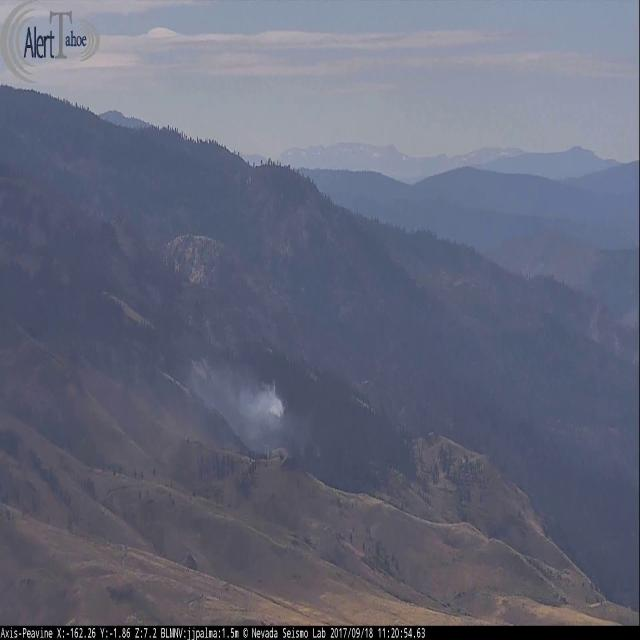smoke: (192, 358, 321, 466)
